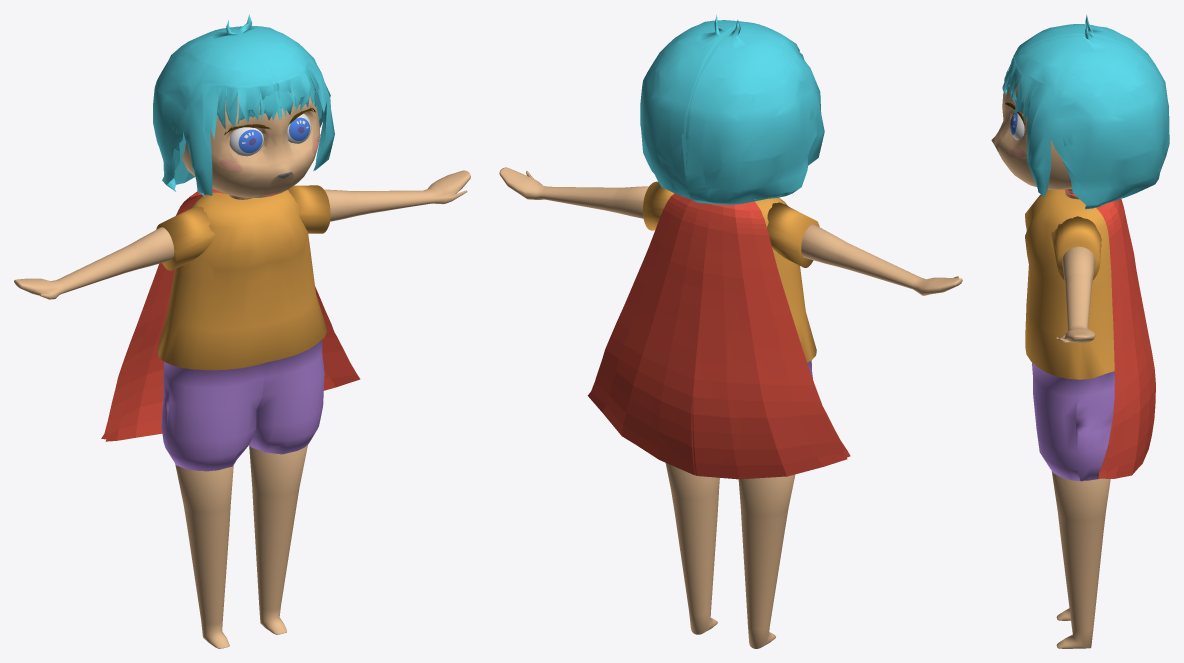
The model's file is playerA02.fbx.
3 renders of one model, left to right at view 1: azimuth 30°, elevation 25°; view 2: azimuth 150°, elevation 25°; view 3: azimuth 270°, elevation 25°, orthographic.
Visible parts, largest first — view 1: model; view 2: model; view 3: model.
Boxes of the visible parts, box(x1,y1,x2,y2) form: model: box(14, 14, 470, 648); model: box(499, 15, 962, 648); model: box(991, 14, 1169, 648).
Bounding box in the file's own units: 332 × 431 × 114.
